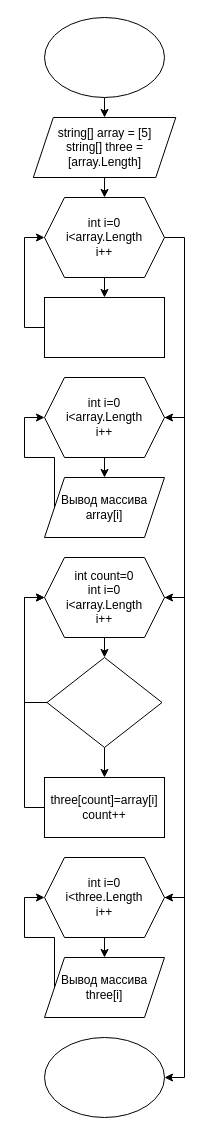
Image size: 210x1135. Some labels were removed from this diagram. Here are the shapes that lost their labels. From the top down, the centre of each, then its label:
At (104,57): "Start".
At (104,327): "Заполнение массива array[i]".
At (104,702): "array[i].Length <=3".
At (104,1077): "Конец".
